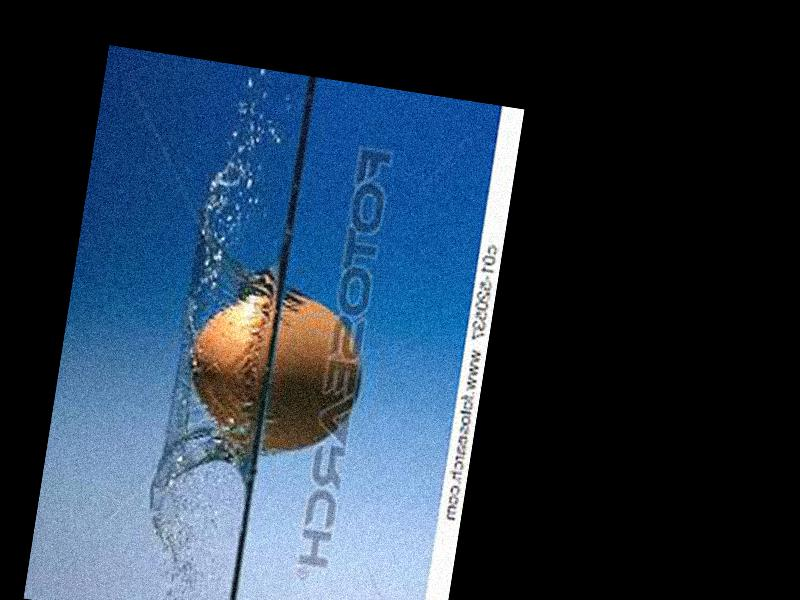Eggs: (177, 280, 369, 462)
